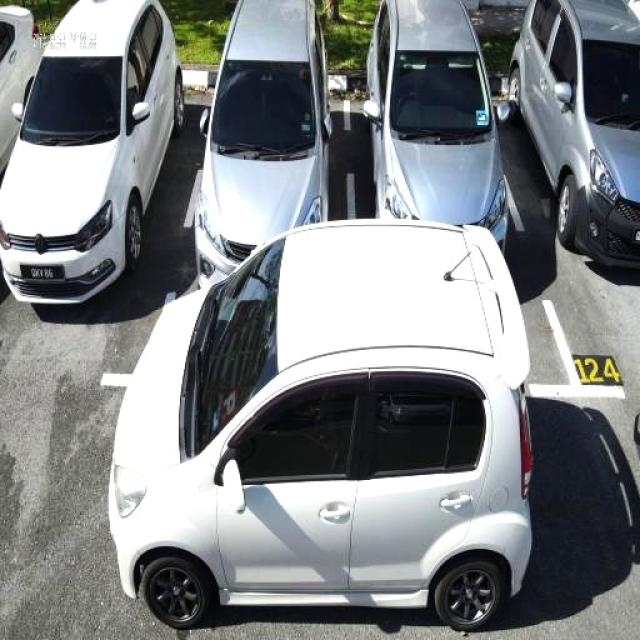Legalparking: (0, 0, 184, 301), (195, 0, 331, 280), (364, 0, 506, 250), (508, 0, 639, 265)
illegalparking: (109, 219, 531, 630)
